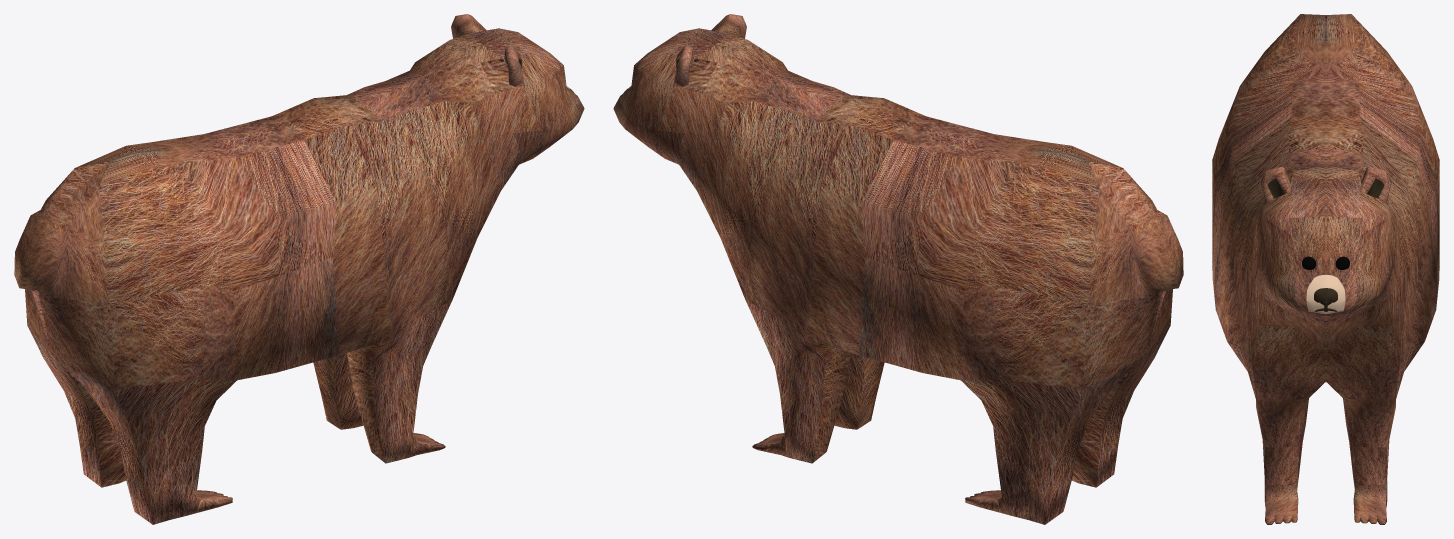
The model's file is OSO - copia.fbx.
3 renders of one model, left to right at view 1: azimuth 30°, elevation 25°; view 2: azimuth 150°, elevation 25°; view 3: azimuth 270°, elevation 25°, orthographic. The views are drawn at different scales.
Parts seen in each view (by area): view 1: CUERPO; view 2: CUERPO; view 3: CUERPO.
Part boxes in pixels (left/top/right/bottom): CUERPO: left=14, top=14, right=584, bottom=524; CUERPO: left=613, top=14, right=1183, bottom=524; CUERPO: left=1212, top=14, right=1439, bottom=524.
Bounding box in the file's own units: 364 × 238 × 125.
